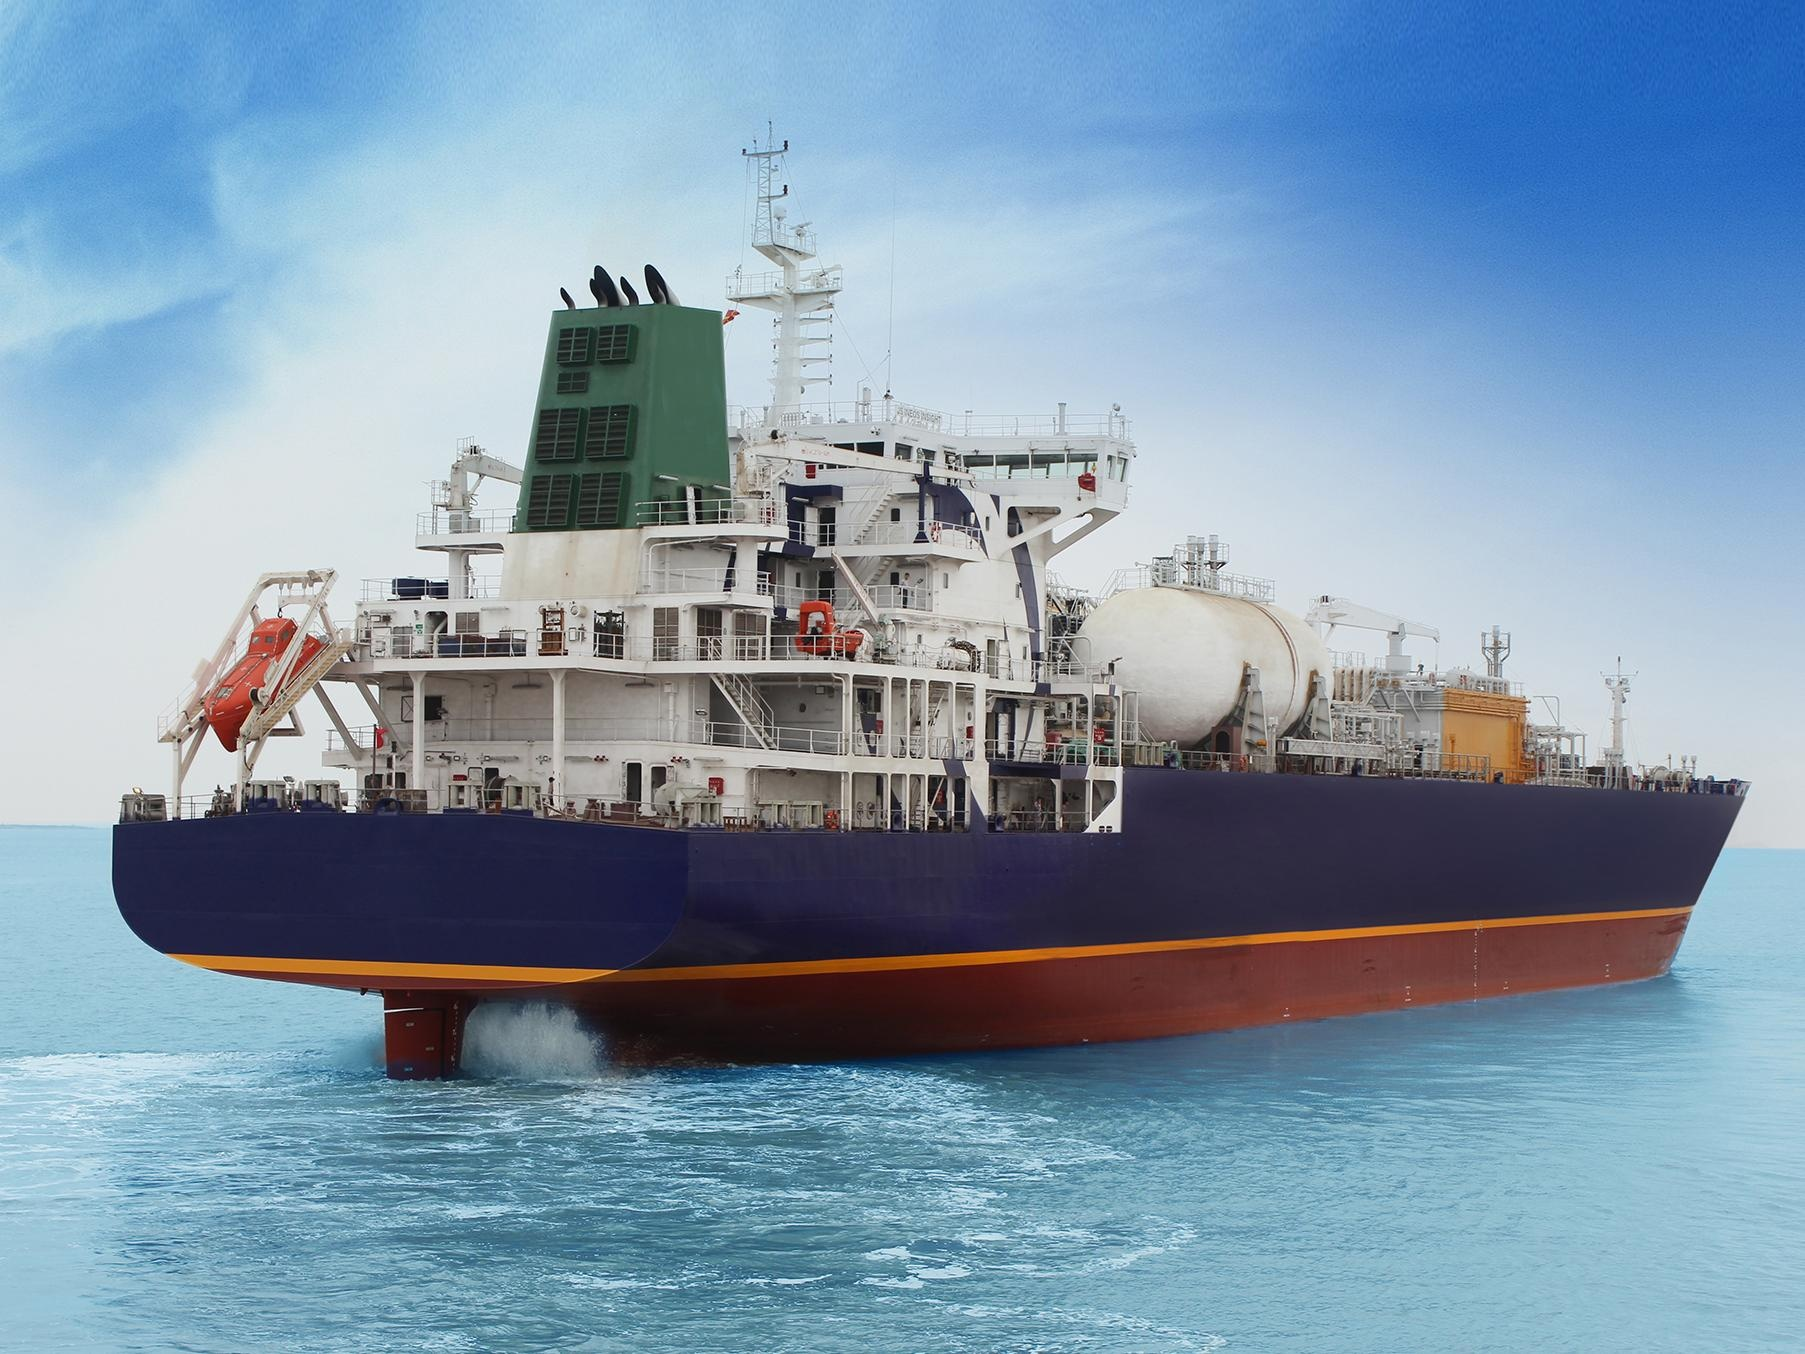Cargoship: (78, 115, 1784, 1084)
